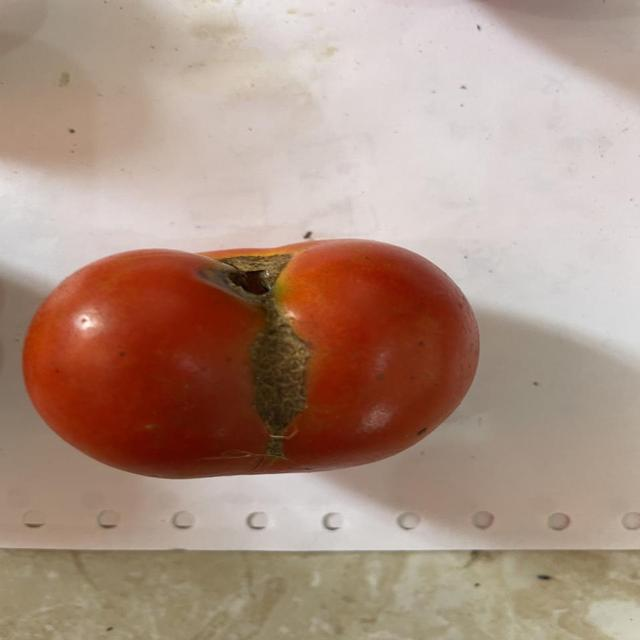Cracking Fruit: (65, 108, 249, 400)
